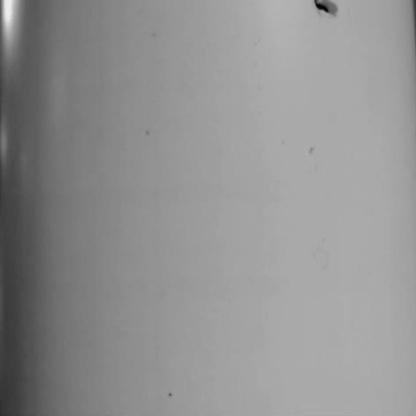kongdong: (310, 1, 342, 27)
